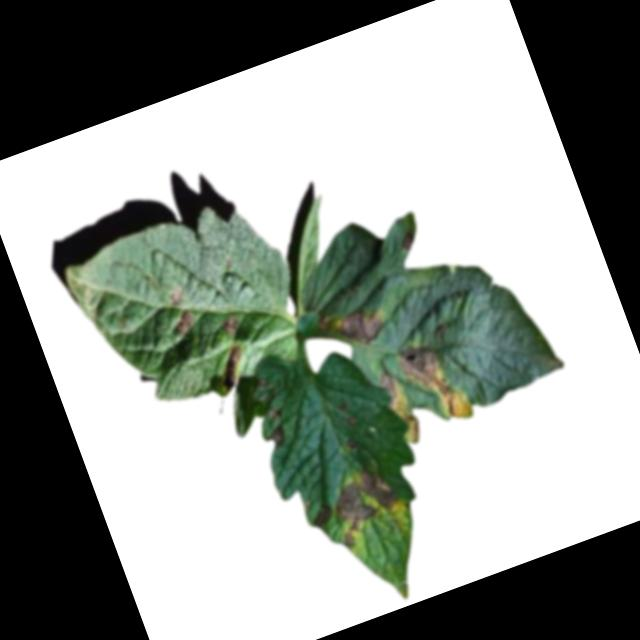Early_blight: (393, 333, 476, 434), (321, 459, 411, 549), (337, 306, 388, 350), (211, 344, 250, 388), (376, 370, 404, 413), (305, 500, 335, 532), (400, 409, 425, 445), (168, 308, 197, 337), (217, 312, 242, 338), (264, 422, 288, 449), (165, 284, 185, 308), (399, 231, 417, 251), (343, 434, 359, 452), (343, 413, 359, 429)
